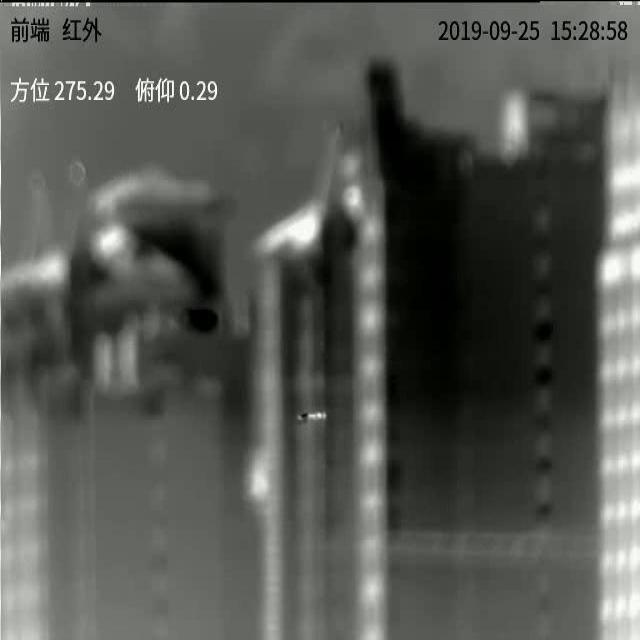drone: (297, 411, 328, 425)
